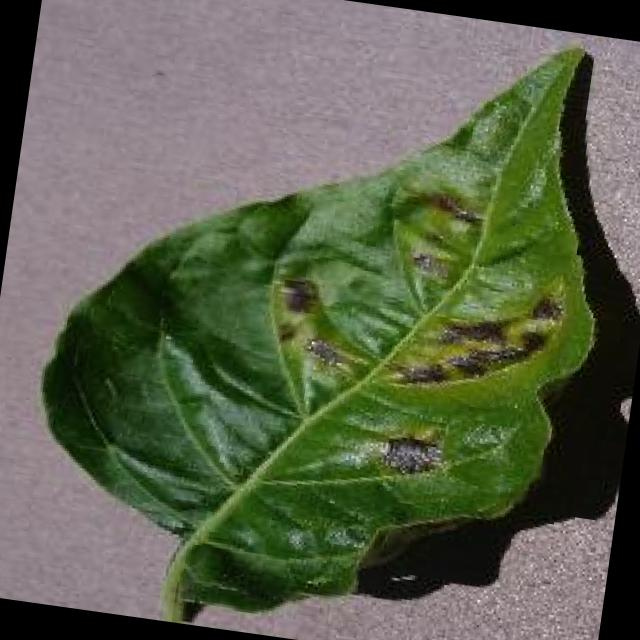Chilli_Bacterial_Spot: (6, 0, 640, 640), (245, 164, 591, 504), (389, 269, 569, 408), (374, 427, 448, 483), (424, 186, 490, 232), (270, 271, 324, 320), (392, 354, 453, 394), (401, 244, 456, 288), (296, 332, 348, 373), (524, 288, 566, 328)
